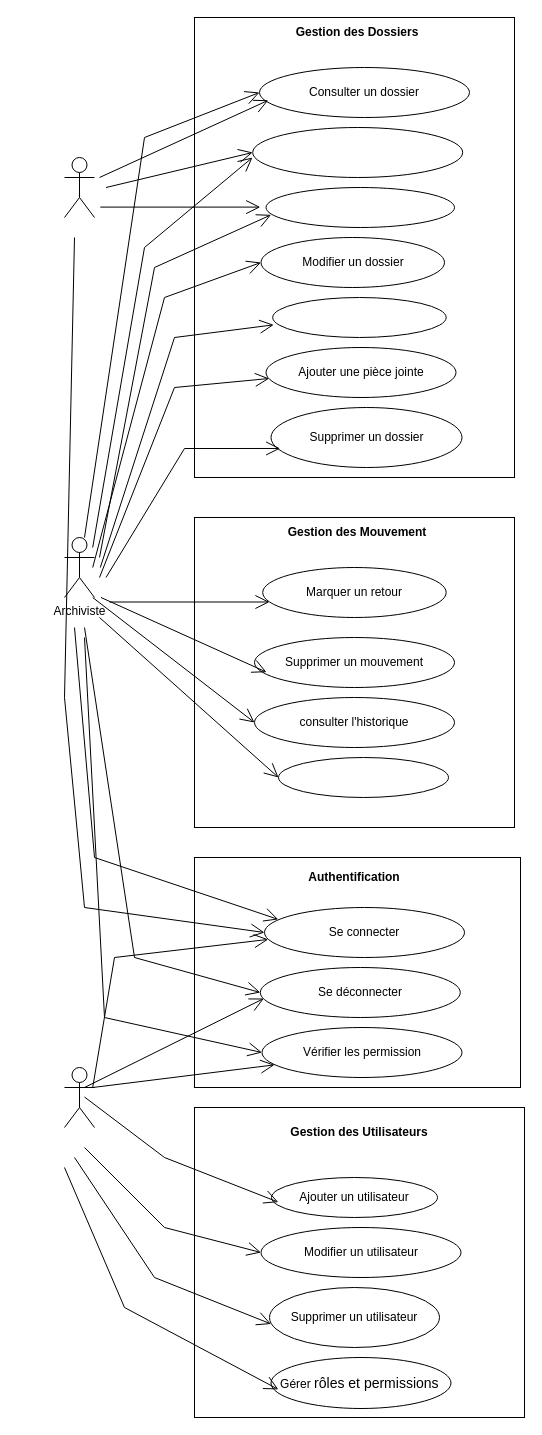
This 542x1435 diagram has some shape labels left out. The shapes that lost their labels are listed below. From the top down, each one's centre as x and y in pixels, then its label:
At [357,152]: "Filtrer les dossiers par état".
At [79,187]: "Responsable RH".
At [359,207]: "Rechercher des dossiers".
At [359,317]: "Creer un dossier".
At [363,777]: "Ajouter un mouvement".
At [79,1097]: "Administrateur système".
